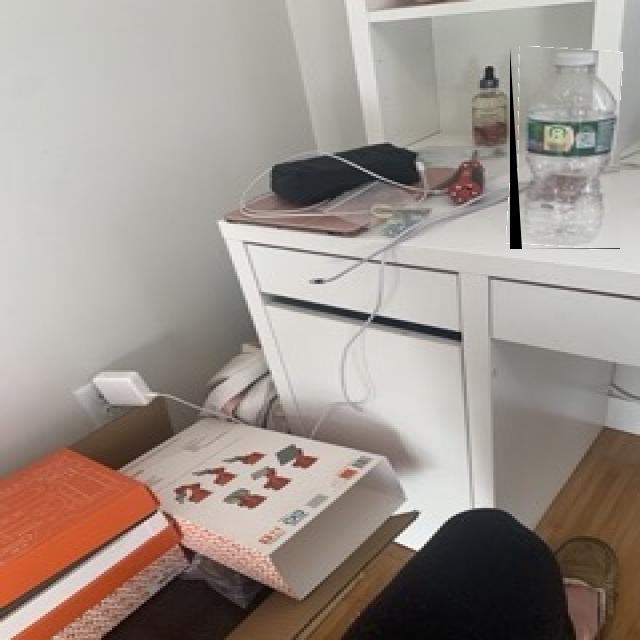water_bottle: (510, 47, 620, 249)
